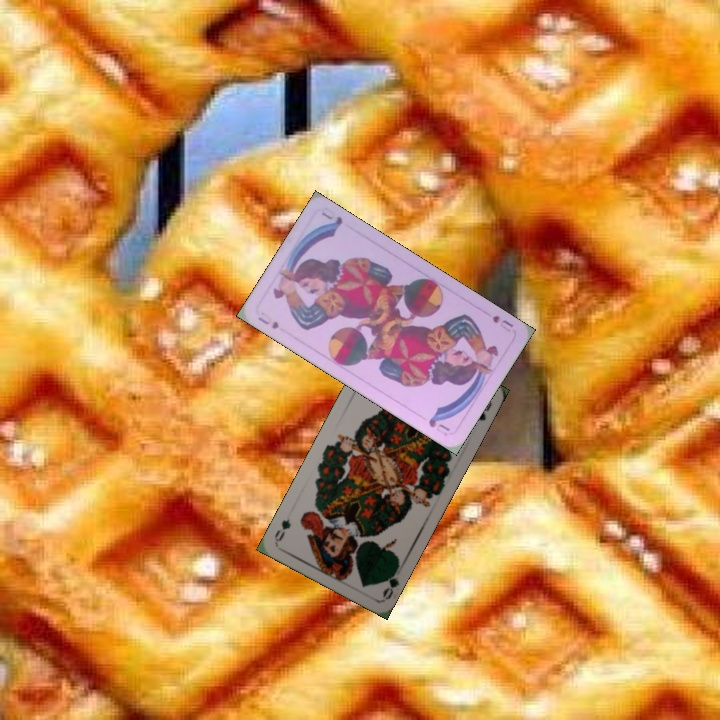GO: (379, 562, 402, 602)
SU: (488, 311, 516, 335), (253, 313, 281, 332)
